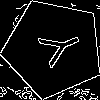Y: (28, 23, 85, 72)
